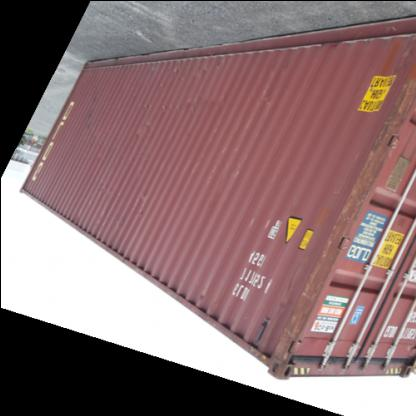Damage: (278, 216, 353, 378), (352, 85, 408, 254)
